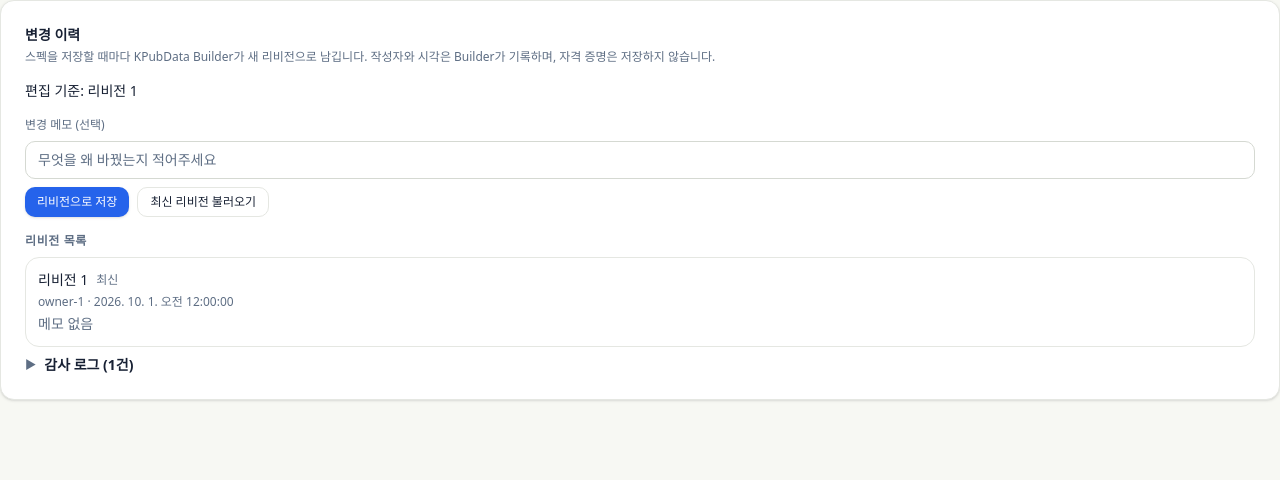
Test: SpecRevisionPanel › shows Builder's 400 credential_in_content refusal
The image size is (1280, 480).
Expected: the text "편집 기준: 리비전 1" is shown, x1=25 y1=81 x2=138 y2=100
Click the button "리비전으로 저장" at x=77, y=202, box x1=25 y1=187 x2=129 y2=217
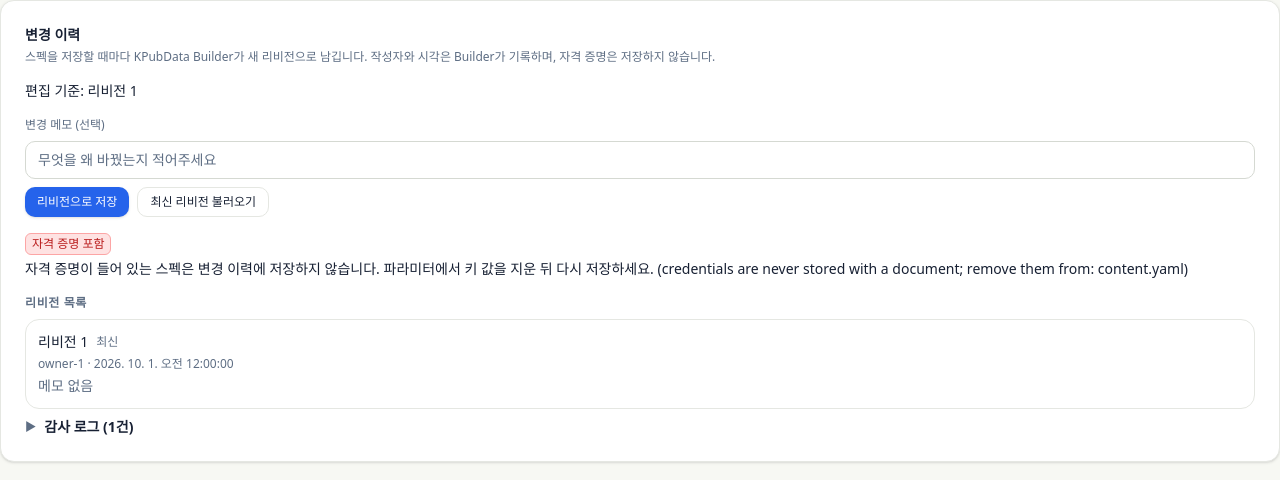
Expected: the message with test id "spec-revision-credential" shows "자격 증명 포함", x1=32 y1=235 x2=104 y2=252
Expected: the message with test id "spec-revision-credential" shows "remove them from: content.yaml", x1=25 y1=259 x2=1188 y2=278
